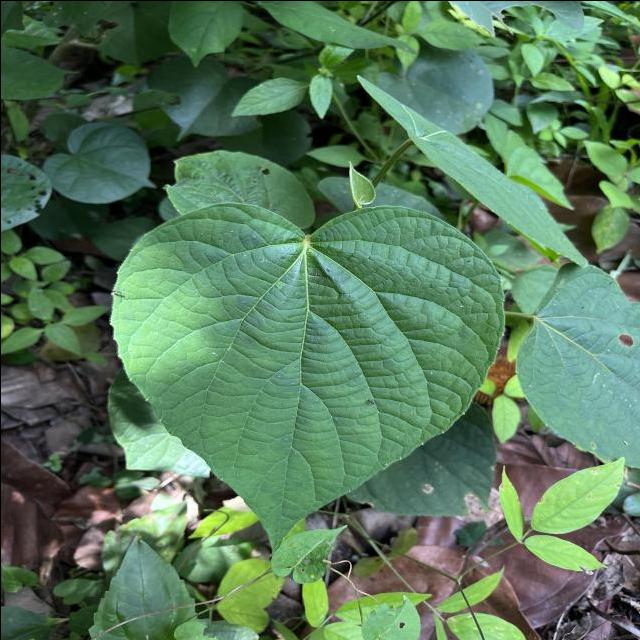Clerodendrum infortunatum: (105, 198, 507, 560)
